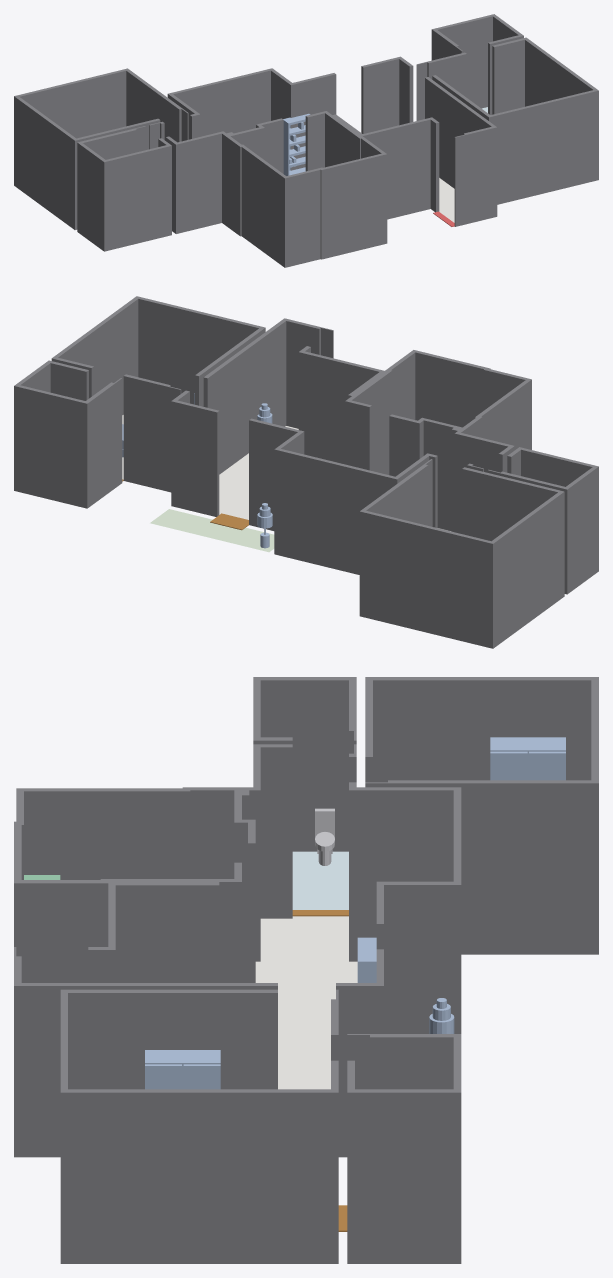
3 renders of one model, top to bottom at view 1: azimuth 30°, elevation 25°; view 2: azimuth 150°, elevation 25°; view 3: azimuth 270°, elevation 25°, orthographic. The views are drawn at different scales.
Visible parts, largest first — view 1: walls:resplan-102-F0-S001, walls:resplan-102-F0-S006, walls:resplan-102-F0-S002, walls:resplan-102-F0-S003, walls:resplan-102-F0-S004, walls:resplan-102-F0-S005, resplan-102-A00004, resplan-102-F0-S001; view 2: walls:resplan-102-F0-S001, walls:resplan-102-F0-S003, walls:resplan-102-F0-S002, walls:resplan-102-F0-S006, walls:resplan-102-F0-S005, walls:resplan-102-F0-S004, resplan-102-F0-S007, resplan-102-F0-S001, resplan-102-A00019; view 3: walls:resplan-102-F0-S002, walls:resplan-102-F0-S001, walls:resplan-102-F0-S003, walls:resplan-102-F0-S006, walls:resplan-102-F0-S005, walls:resplan-102-F0-S004, resplan-102-F0-S001, resplan-102-A00009, resplan-102-F0-S004, resplan-102-A00007, resplan-102-A00011, resplan-102-A00004 (+1 smaller).
Boxes of the visible parts, bbox=[...] form: walls:resplan-102-F0-S001: bbox=[149, 56, 497, 233]; walls:resplan-102-F0-S006: bbox=[225, 111, 387, 267]; walls:resplan-102-F0-S002: bbox=[416, 37, 598, 204]; walls:resplan-102-F0-S003: bbox=[14, 68, 188, 229]; walls:resplan-102-F0-S004: bbox=[77, 126, 171, 251]; walls:resplan-102-F0-S005: bbox=[431, 14, 523, 114]; resplan-102-A00004: bbox=[283, 113, 310, 175]; resplan-102-F0-S001: bbox=[439, 178, 454, 222]; walls:resplan-102-F0-S001: bbox=[171, 318, 514, 574]; walls:resplan-102-F0-S003: bbox=[359, 459, 564, 648]; walls:resplan-102-F0-S002: bbox=[51, 296, 265, 492]; walls:resplan-102-F0-S006: bbox=[345, 350, 531, 531]; walls:resplan-102-F0-S005: bbox=[14, 360, 122, 508]; walls:resplan-102-F0-S004: bbox=[487, 447, 598, 594]; resplan-102-F0-S007: bbox=[150, 509, 274, 552]; resplan-102-F0-S001: bbox=[219, 426, 298, 519]; resplan-102-A00019: bbox=[257, 503, 272, 548]; walls:resplan-102-F0-S002: bbox=[60, 989, 338, 1263]; walls:resplan-102-F0-S001: bbox=[14, 744, 461, 1157]; walls:resplan-102-F0-S003: bbox=[365, 677, 598, 954]; walls:resplan-102-F0-S006: bbox=[14, 787, 255, 982]; walls:resplan-102-F0-S005: bbox=[347, 1034, 461, 1263]; walls:resplan-102-F0-S004: bbox=[253, 677, 356, 851]; resplan-102-F0-S001: bbox=[255, 916, 357, 1089]; resplan-102-A00009: bbox=[490, 737, 565, 780]; resplan-102-F0-S004: bbox=[292, 851, 348, 909]; resplan-102-A00007: bbox=[145, 1050, 220, 1089]; resplan-102-A00011: bbox=[315, 808, 334, 865]; resplan-102-A00004: bbox=[357, 937, 376, 982].
Size of the model in its own units: 15.6 by 3 by 9.28.
